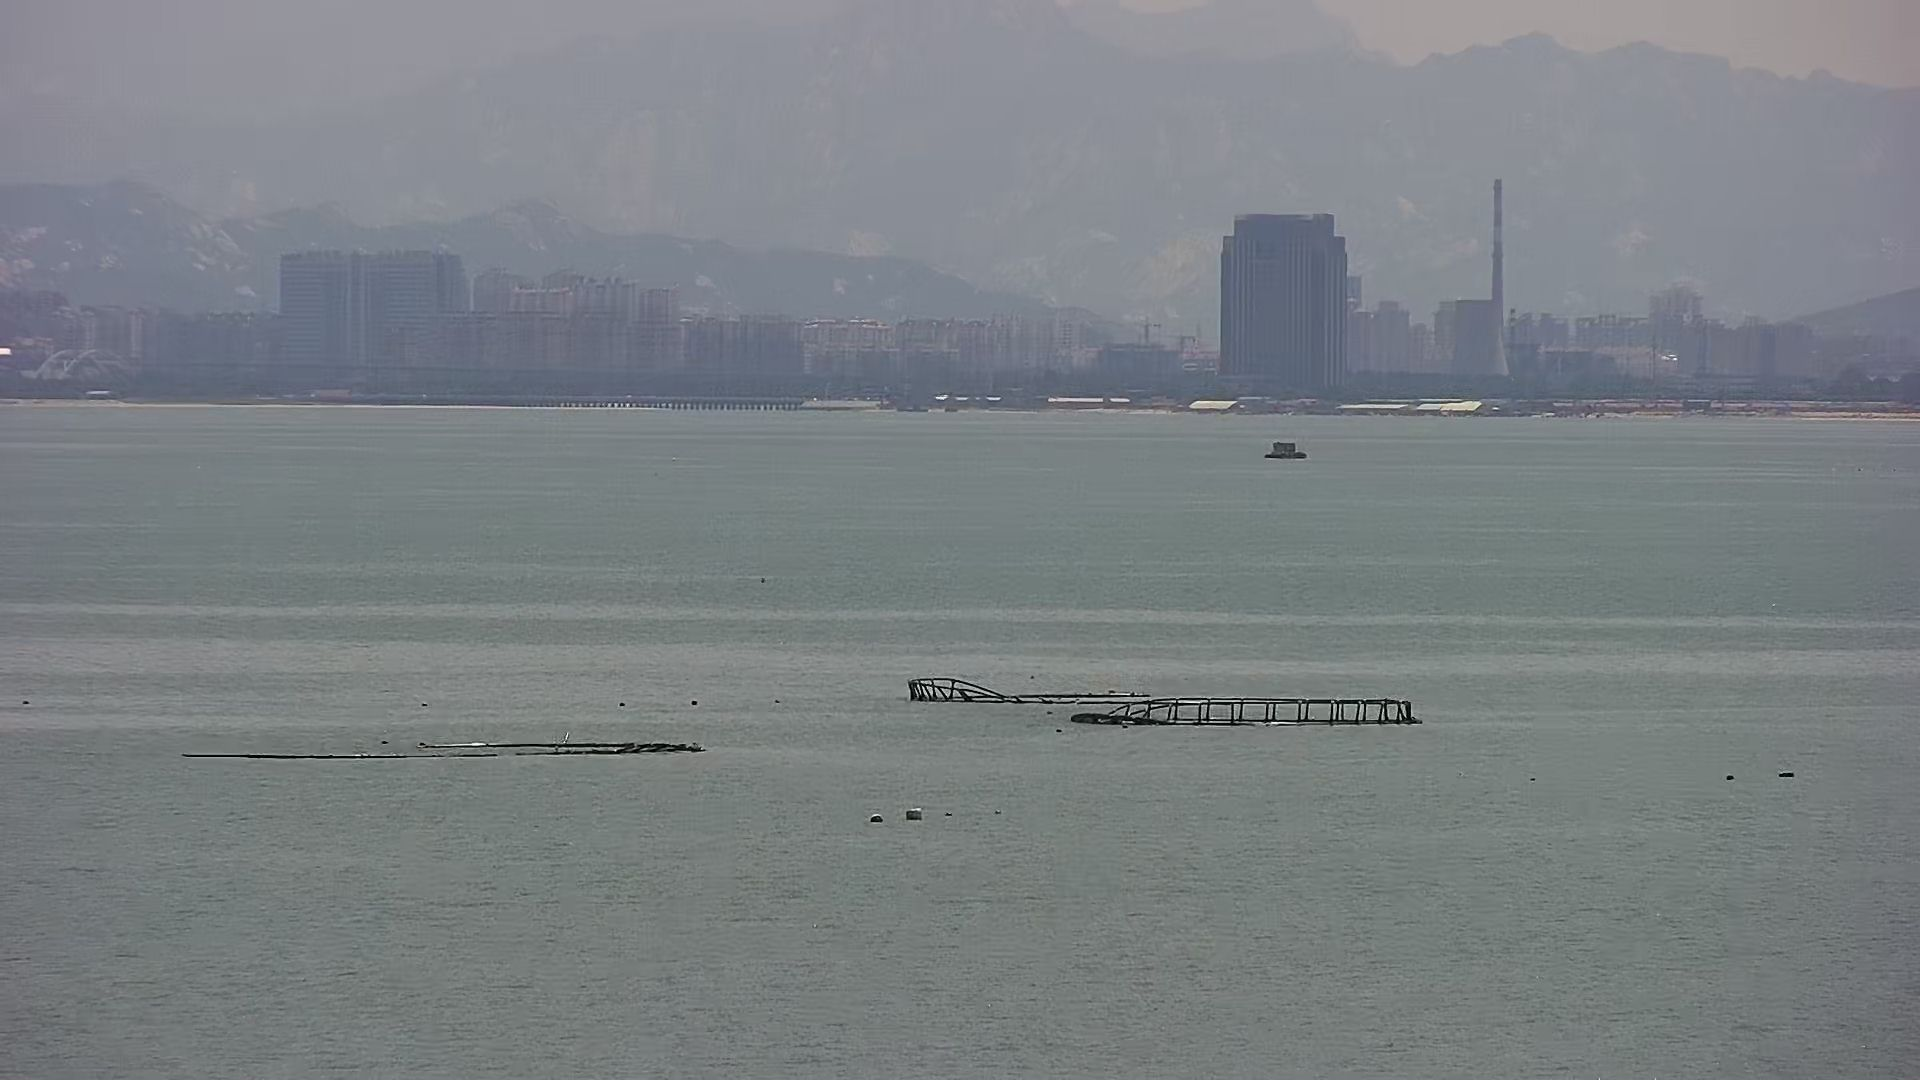ball: (870, 808, 889, 825), (909, 804, 924, 822)
platform: (1266, 435, 1311, 463)
rubbish: (903, 676, 1423, 732), (181, 731, 705, 760)
